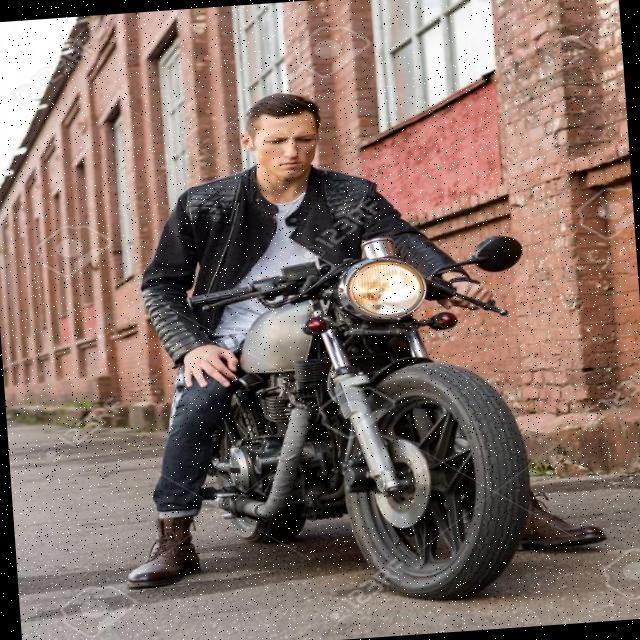No helmet: (232, 82, 338, 206)
